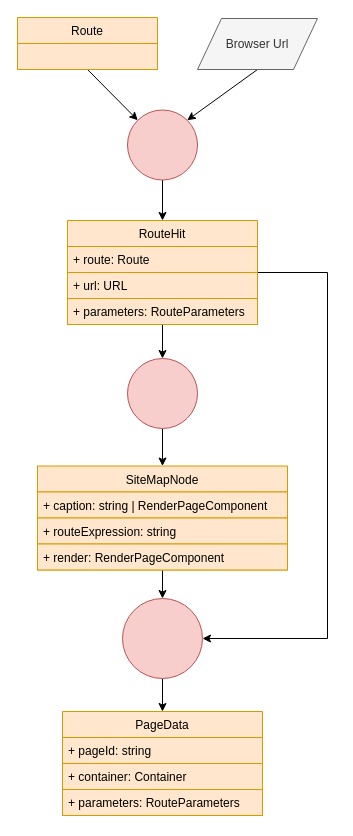
Some shapes in this 353 by 836 pixel diagram are drawn without their labels. The shapes that lost their labels are listed below. From the top down, each one's centre as x and y in pixels, then its label:
[87,56]: + expression: string
[162,144]: derive route hit
[162,393]: find matching site map nope
[162,638]: compute page id and find or create page data
